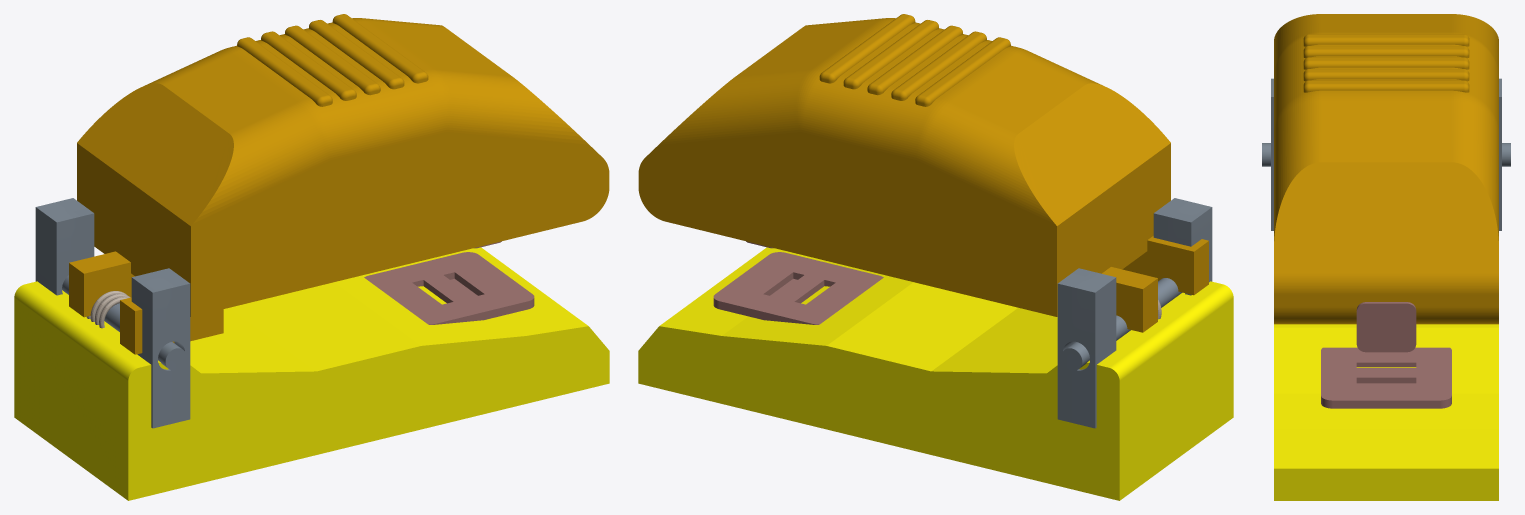
File: Handtools_Stapler__0056.glb
3 views of the same model, side by side, from view 1: azimuth 30°, elevation 25°; view 2: azimuth 150°, elevation 25°; view 3: azimuth 270°, elevation 25° (orthographic).
Visible parts, largest first — view 1: top_arm::arm_shell, base::base_body, base::hinge_knuckles, base::anvil_plate, top_arm::grip_rib_1, top_arm::grip_rib_3, top_arm::grip_rib_0, top_arm::grip_rib_4, top_arm::grip_rib_2, top_arm::hinge_pin, base::torsion_spring; view 2: top_arm::arm_shell, base::base_body, base::hinge_knuckles, base::anvil_plate, top_arm::grip_rib_1, top_arm::grip_rib_3, top_arm::grip_rib_0, top_arm::grip_rib_4, top_arm::grip_rib_2, top_arm::hinge_pin; view 3: top_arm::arm_shell, base::base_body, base::anvil_plate, top_arm::carrier_rail, top_arm::grip_rib_4, top_arm::grip_rib_2, top_arm::grip_rib_0, top_arm::grip_rib_1, top_arm::grip_rib_3, base::hinge_knuckles, top_arm::hinge_pin.
Boxes of the visible parts, x1,y1,x2,y2 form: top_arm::arm_shell: [69, 18, 609, 354]; base::base_body: [14, 247, 609, 500]; base::hinge_knuckles: [35, 198, 190, 428]; base::anvil_plate: [364, 252, 534, 324]; top_arm::grip_rib_1: [261, 31, 356, 100]; top_arm::grip_rib_3: [309, 20, 404, 89]; top_arm::grip_rib_0: [237, 37, 332, 106]; top_arm::grip_rib_4: [332, 14, 428, 83]; top_arm::grip_rib_2: [285, 25, 380, 95]; top_arm::hinge_pin: [62, 275, 186, 370]; base::torsion_spring: [86, 291, 130, 328]; top_arm::arm_shell: [638, 18, 1208, 332]; base::base_body: [638, 247, 1233, 500]; base::hinge_knuckles: [1057, 198, 1212, 428]; base::anvil_plate: [713, 252, 883, 324]; top_arm::grip_rib_1: [891, 31, 986, 100]; top_arm::grip_rib_3: [843, 20, 938, 89]; top_arm::grip_rib_0: [915, 37, 1010, 106]; top_arm::grip_rib_4: [819, 14, 915, 83]; top_arm::grip_rib_2: [867, 25, 962, 95]; top_arm::hinge_pin: [1061, 278, 1182, 370]; top_arm::arm_shell: [1274, 14, 1498, 324]; base::base_body: [1274, 324, 1498, 500]; base::anvil_plate: [1321, 347, 1451, 408]; top_arm::carrier_rail: [1356, 302, 1416, 352]; top_arm::grip_rib_4: [1303, 80, 1469, 92]; top_arm::grip_rib_2: [1303, 57, 1469, 69]; top_arm::grip_rib_0: [1303, 34, 1469, 46]; top_arm::grip_rib_1: [1303, 46, 1469, 58]; top_arm::grip_rib_3: [1303, 69, 1469, 81]; base::hinge_knuckles: [1271, 78, 1501, 230]; top_arm::hinge_pin: [1262, 143, 1510, 166].
Size of the model in its own units: 0.093 by 0.0629 by 0.0419.
6 materials, 3 textured.
